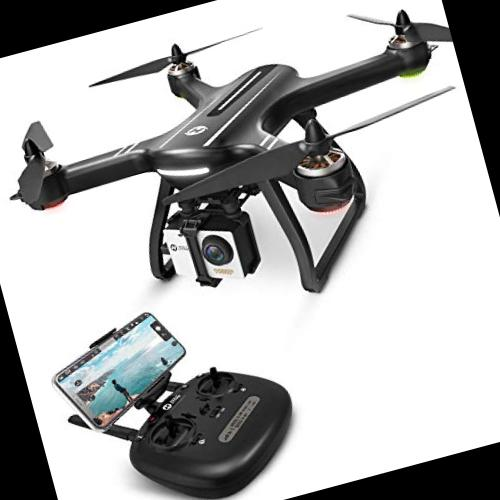drone: (0, 0, 500, 343)
